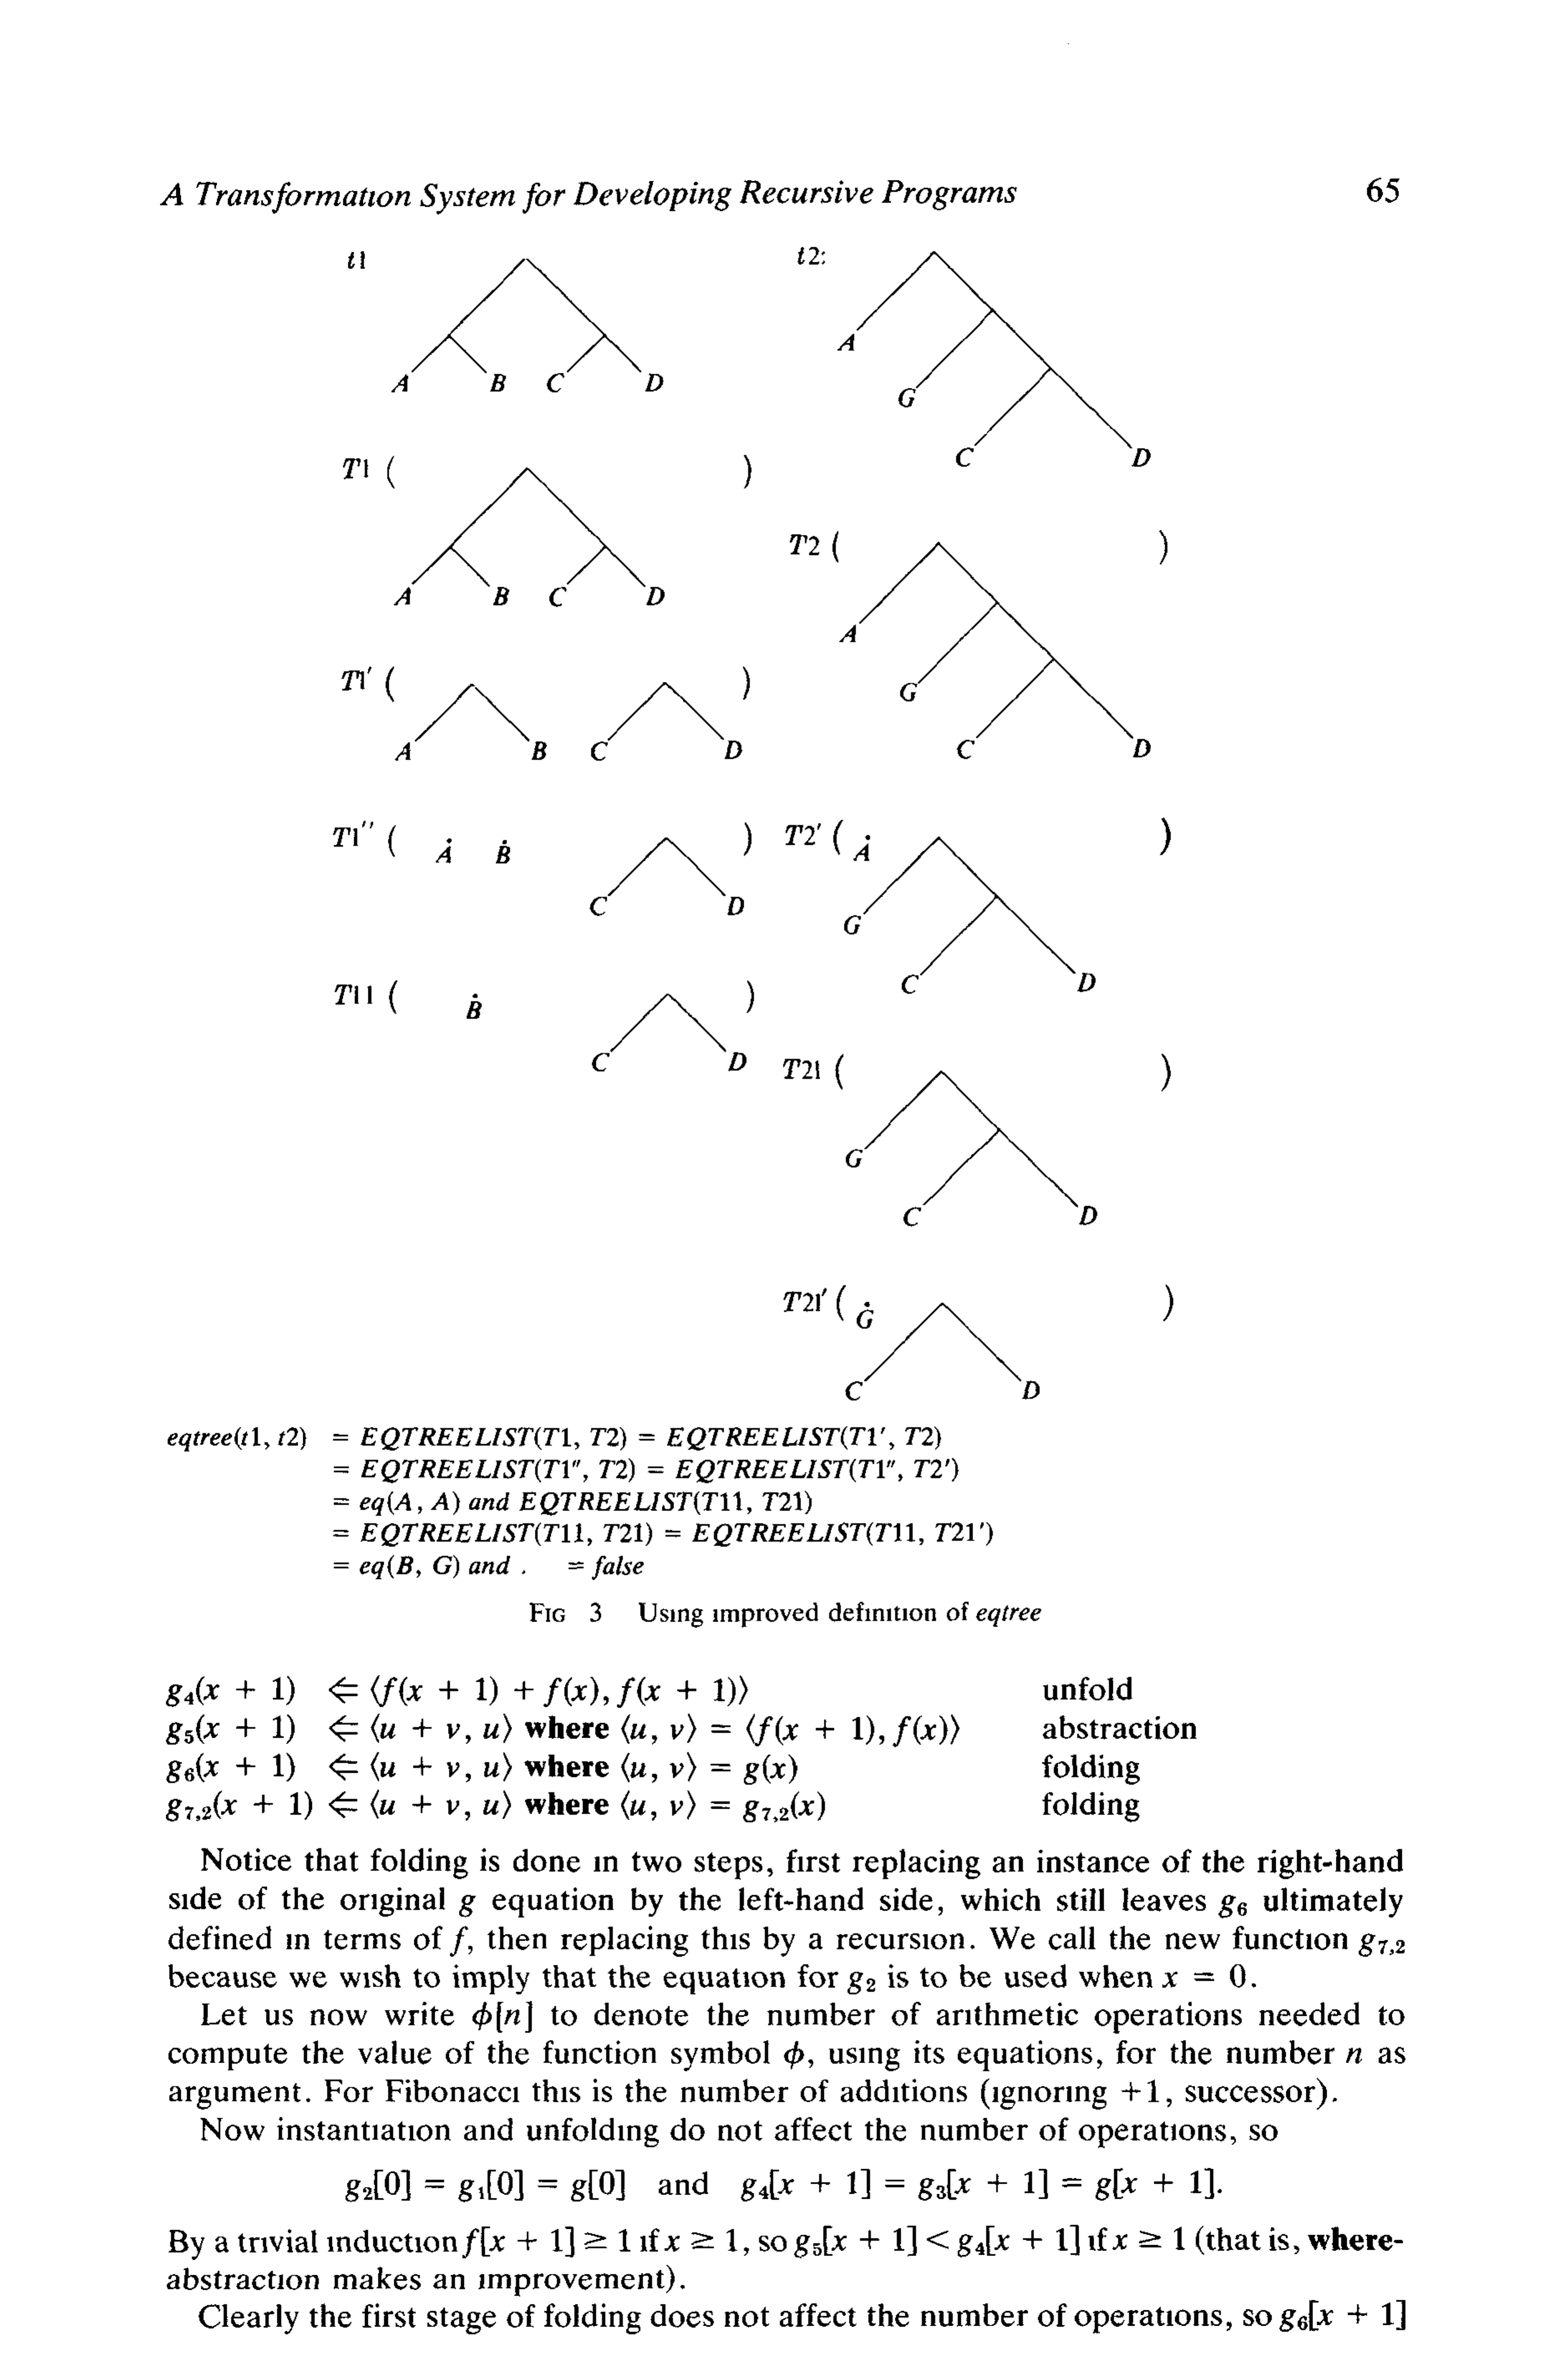maths: (168, 1426, 940, 1452), (334, 1457, 958, 1484), (334, 1522, 993, 1546), (741, 2169, 1215, 2202), (166, 1789, 470, 1821), (793, 2224, 1080, 2258), (329, 1676, 608, 1707), (346, 2170, 626, 2202), (519, 1491, 811, 1515), (671, 1714, 884, 1747), (463, 2226, 631, 2258), (671, 1791, 825, 1823), (329, 1714, 470, 1744), (329, 1753, 470, 1782), (617, 1676, 748, 1707), (166, 1676, 295, 1707), (669, 1753, 797, 1784), (1279, 2300, 1405, 2331), (166, 1714, 295, 1744), (166, 1753, 295, 1782), (334, 1555, 460, 1580), (334, 1492, 460, 1515), (893, 1714, 960, 1747), (472, 2001, 533, 2032), (1162, 1964, 1246, 1987), (568, 1555, 643, 1580), (1112, 2226, 1185, 2249), (664, 2230, 738, 2251), (1122, 2079, 1171, 2107), (1358, 1933, 1405, 1957), (620, 1714, 657, 1744), (620, 1753, 657, 1782), (620, 1791, 657, 1821), (484, 1714, 512, 1742), (484, 1753, 512, 1781), (484, 1791, 510, 1819), (1218, 1894, 1246, 1919), (848, 1971, 876, 1994), (451, 1926, 468, 1957), (785, 2041, 804, 2069), (460, 1894, 475, 1917), (1346, 2048, 1362, 2064)
